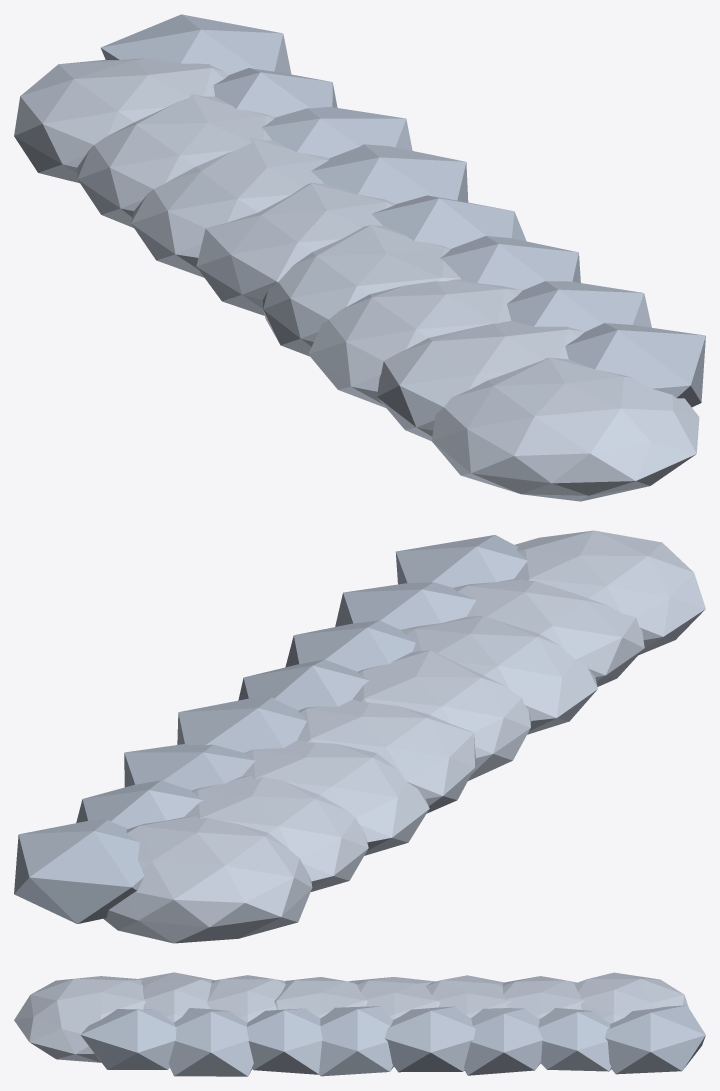
The model's file is snowbank.glb.
The picture shows the model from 3 angles, top to bottom: view 1: azimuth 30°, elevation 25°; view 2: azimuth 150°, elevation 25°; view 3: azimuth 270°, elevation 25°; orthographic projection. The views are drawn at different scales.
Visible parts, largest first — view 1: snowbank; view 2: snowbank; view 3: snowbank.
Part boxes in pixels (x1,y1,x2,y2): snowbank: (14,14,705,501); snowbank: (14,530,705,943); snowbank: (14,972,705,1076).
Bounding box in the file's own units: 4.18 × 1.5 × 14.17.
